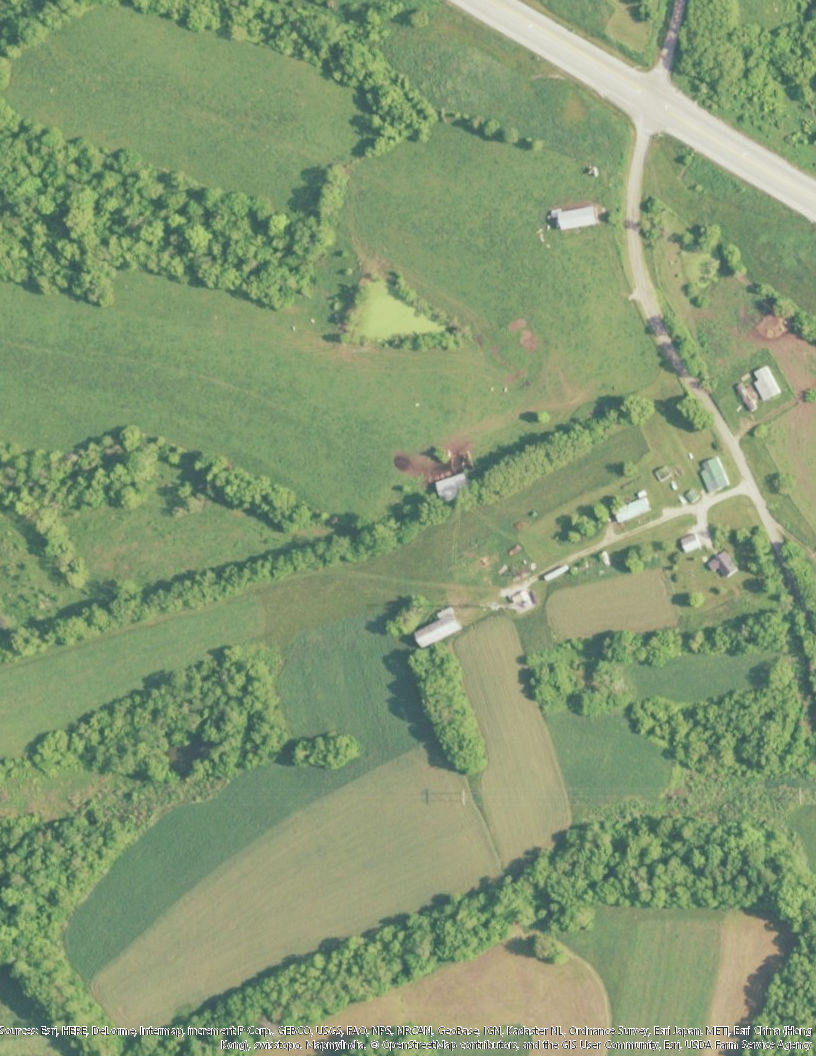cafo: (412, 605, 466, 651), (549, 202, 606, 232), (432, 466, 474, 501), (748, 363, 782, 401)
